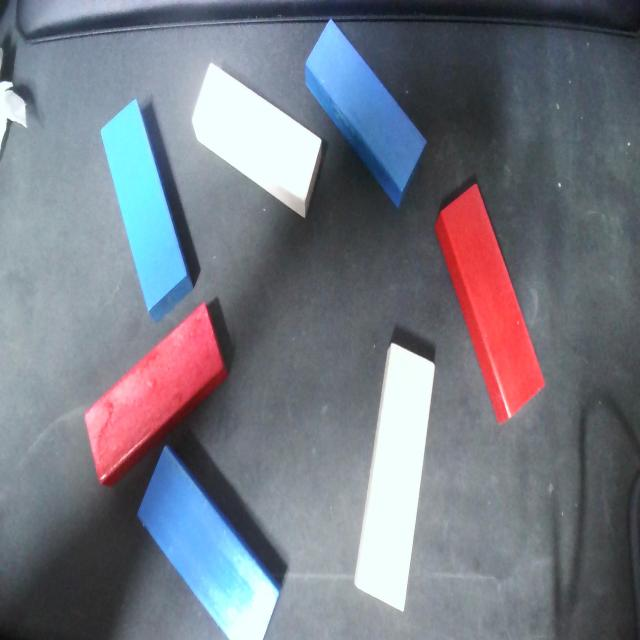blue: (109, 445, 300, 640), (281, 18, 450, 209), (89, 100, 201, 326)
red: (58, 297, 255, 493), (422, 183, 554, 426)
wood: (168, 60, 349, 219), (349, 343, 437, 614)
